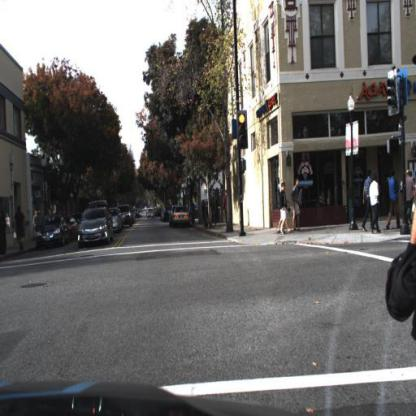car: (79, 205, 112, 254), (35, 210, 69, 253), (171, 204, 194, 231)
pedestrian: (388, 169, 401, 237), (278, 181, 292, 237), (363, 169, 375, 233), (370, 177, 381, 237), (16, 201, 27, 254), (405, 166, 414, 229), (292, 179, 302, 234), (223, 188, 230, 236), (213, 194, 221, 230)
trafficLight: (237, 110, 249, 150)
